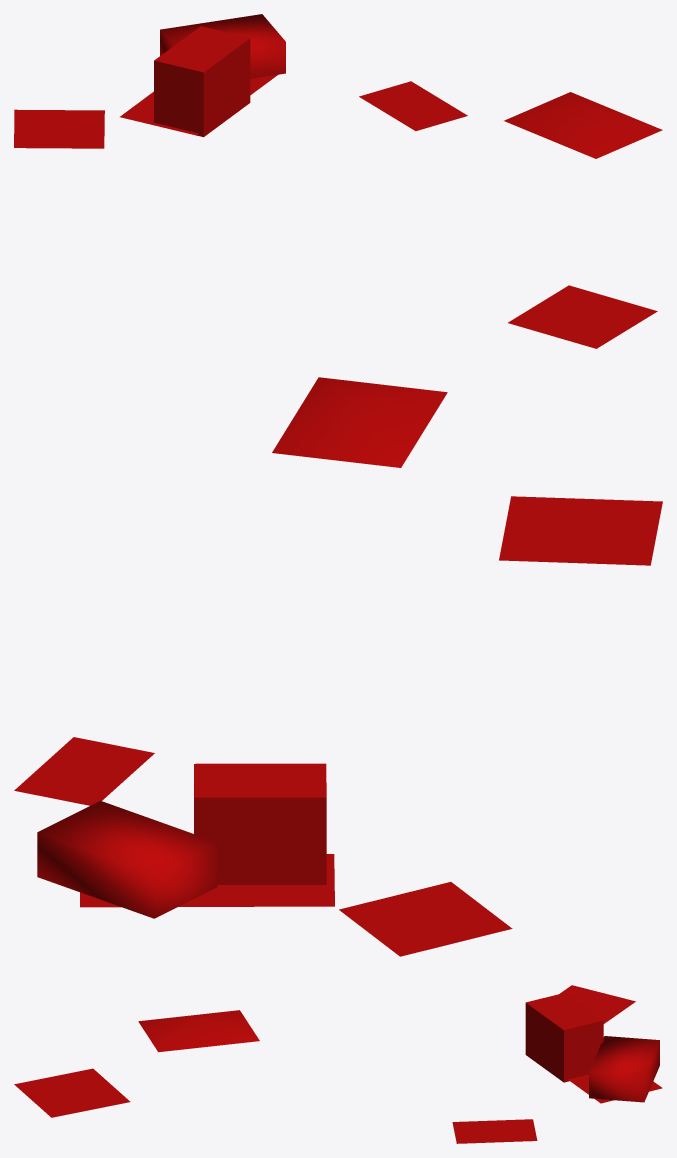
The model's file is n_market_place01_goods_lod0.glb.
3 renders of one model, top to bottom at view 1: azimuth 30°, elevation 25°; view 2: azimuth 150°, elevation 25°; view 3: azimuth 270°, elevation 25°, orthographic. The views are drawn at different scales.
Visible parts, largest first — view 1: MODEL_n_market_place01_goods_lod0; view 2: MODEL_n_market_place01_goods_lod0; view 3: MODEL_n_market_place01_goods_lod0.
Part boxes in pixels (left/top/right/bottom): MODEL_n_market_place01_goods_lod0: left=14, top=14, right=662, bottom=348; MODEL_n_market_place01_goods_lod0: left=14, top=377, right=662, bottom=956; MODEL_n_market_place01_goods_lod0: left=14, top=985, right=662, bottom=1143.
Bounding box in the file's own units: 0.9195 × 0.301 × 1.62.
